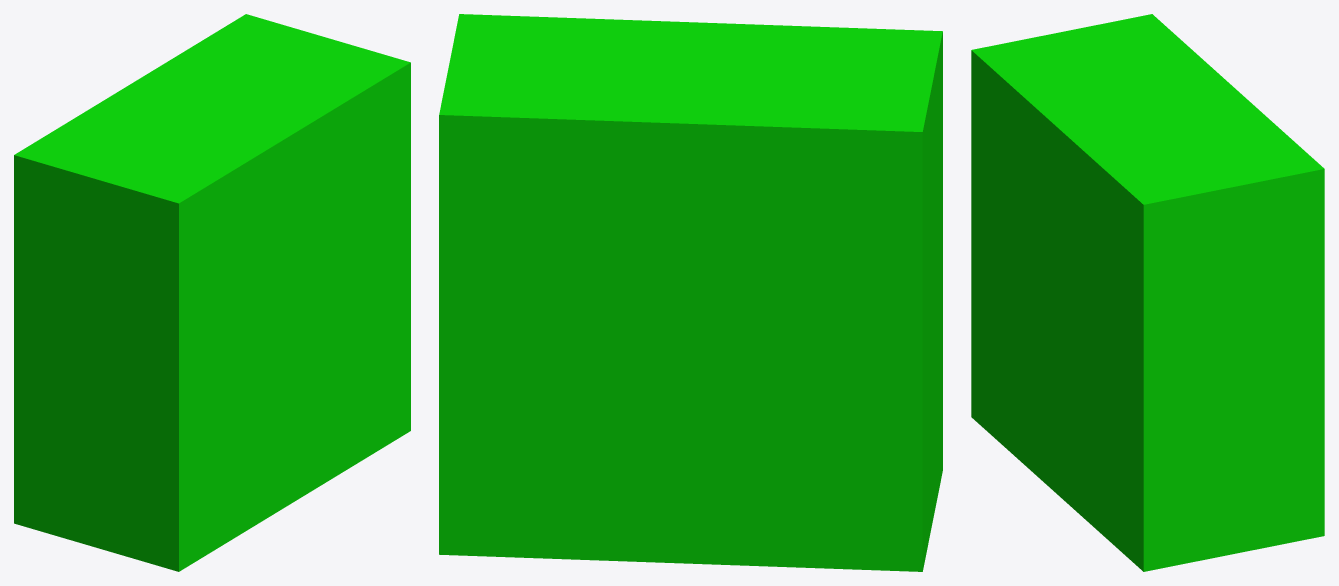
3 views of the same model, side by side, from view 1: azimuth 30°, elevation 25°; view 2: azimuth 150°, elevation 25°; view 3: azimuth 270°, elevation 25° (orthographic). The views are drawn at different scales.
Parts seen in each view (by area): view 1: Cube.033; view 2: Cube.033; view 3: Cube.033.
Boxes of the visible parts, x1,y1,x2,y2 form: Cube.033: (14, 14, 410, 571); Cube.033: (439, 14, 942, 571); Cube.033: (971, 14, 1324, 571).
Size of the model in its own units: 396 by 355 by 310.
